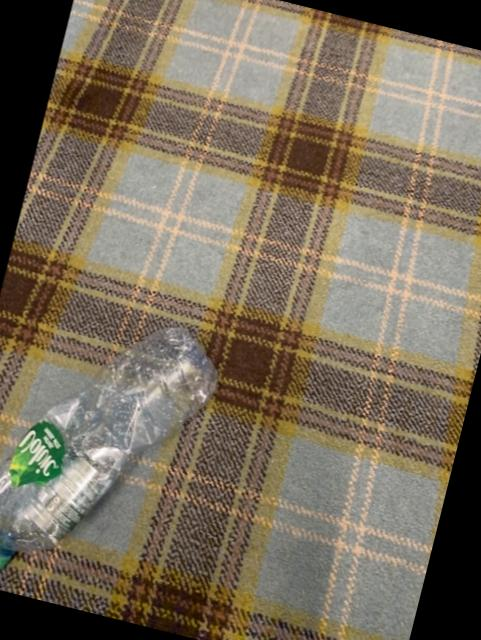plastic: (0, 328, 214, 568)
